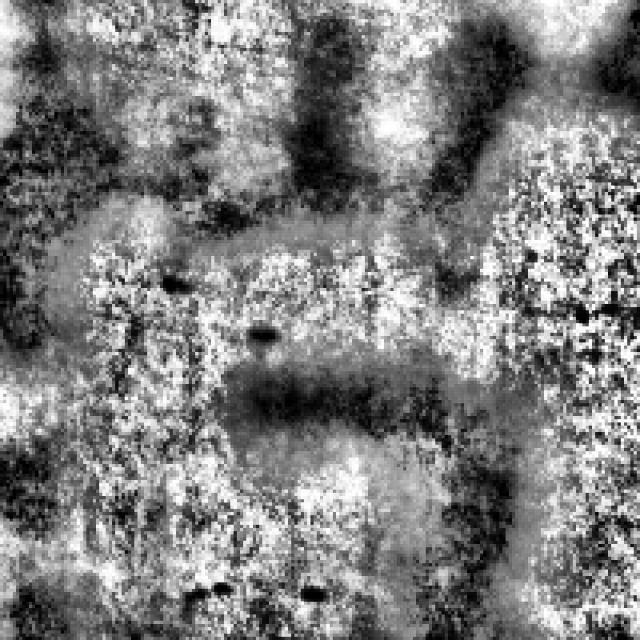Scratches: (243, 358, 531, 637), (10, 0, 144, 365), (176, 22, 394, 228), (420, 13, 550, 221), (3, 547, 90, 637), (582, 0, 640, 112)
